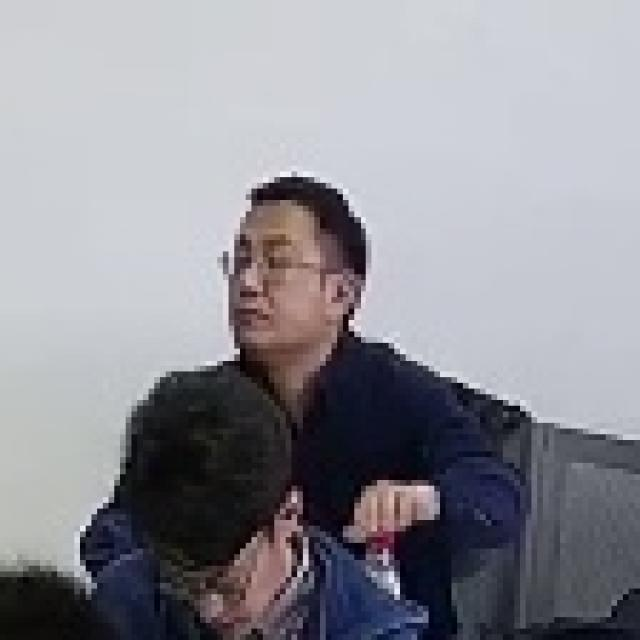drink: (227, 171, 540, 586)
trance: (97, 368, 410, 640)
